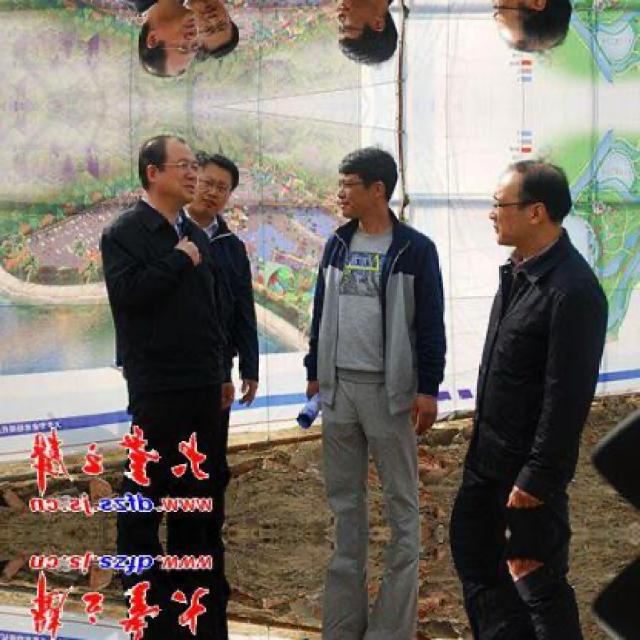sin casco: (292, 105, 432, 289), (496, 120, 605, 302), (90, 110, 224, 244), (187, 122, 259, 223)
